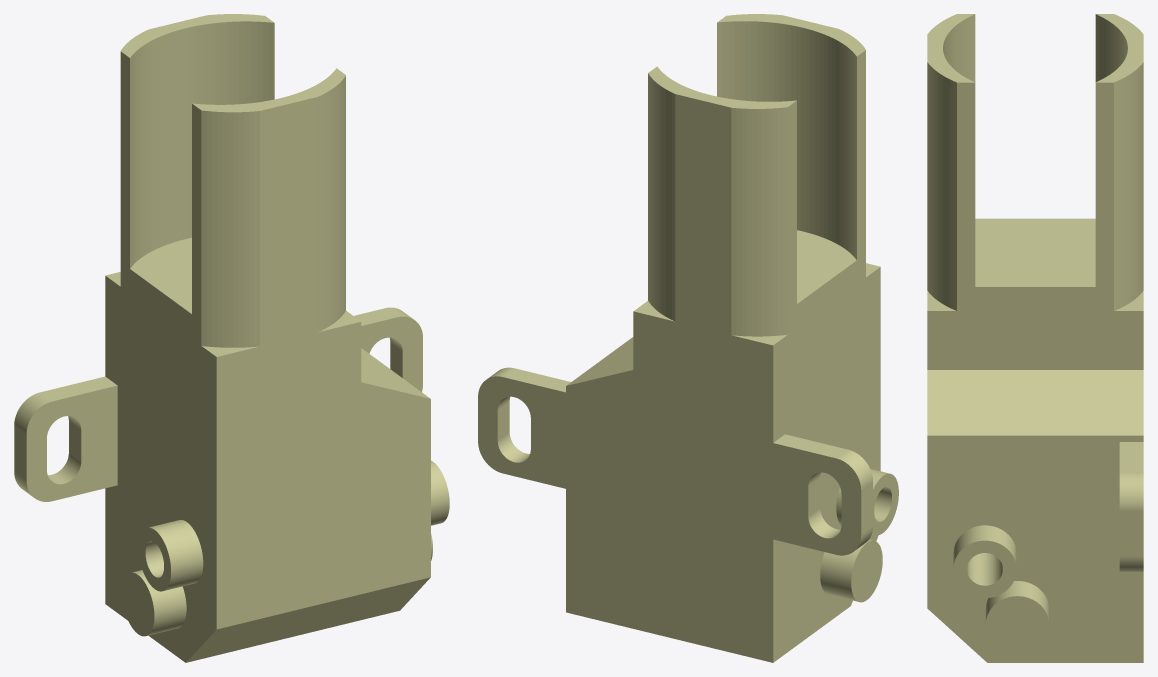
File: pendulum_robot_gearbox_case_huqden.dae
3 renders of one model, left to right at view 1: azimuth 30°, elevation 25°; view 2: azimuth 150°, elevation 25°; view 3: azimuth 270°, elevation 25°, orthographic. The views are drawn at different scales.
Visible parts, largest first — view 1: node0; view 2: node0; view 3: node0.
Boxes of the visible parts, x1,y1,x2,y2 form: node0: (14,14,449,662); node0: (478,14,898,662); node0: (927,14,1143,662).
Size of the model in its own units: 0.037 by 0.018 by 0.0503.
